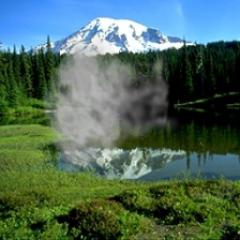smoke: (42, 26, 182, 174)
